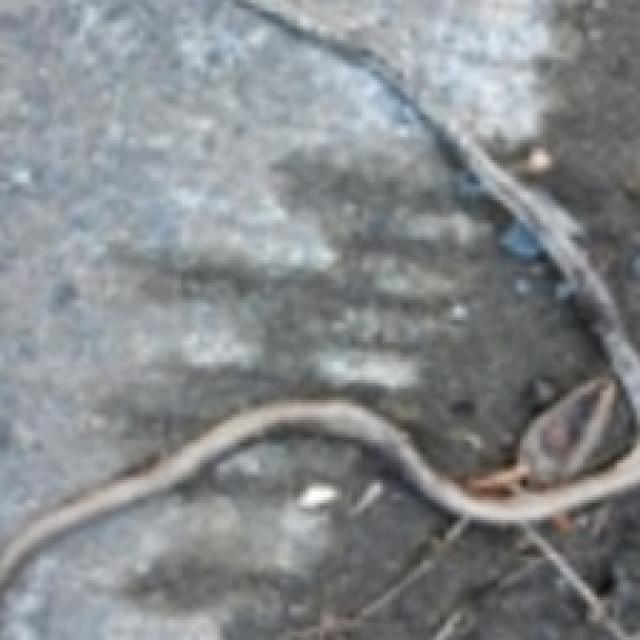philippine whip snake: (5, 0, 640, 574)
